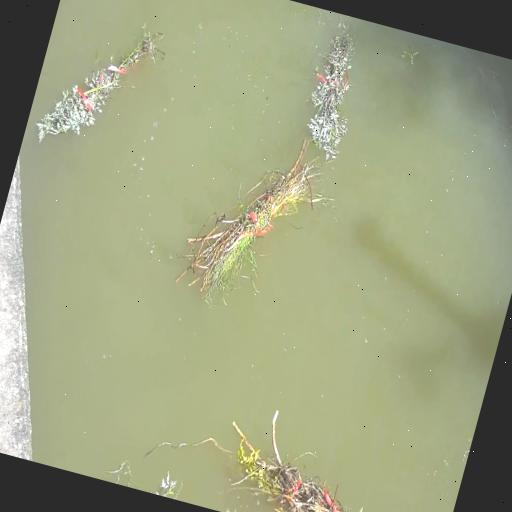twig: (175, 147, 331, 297), (36, 32, 164, 141), (233, 411, 347, 512), (307, 32, 353, 160)
